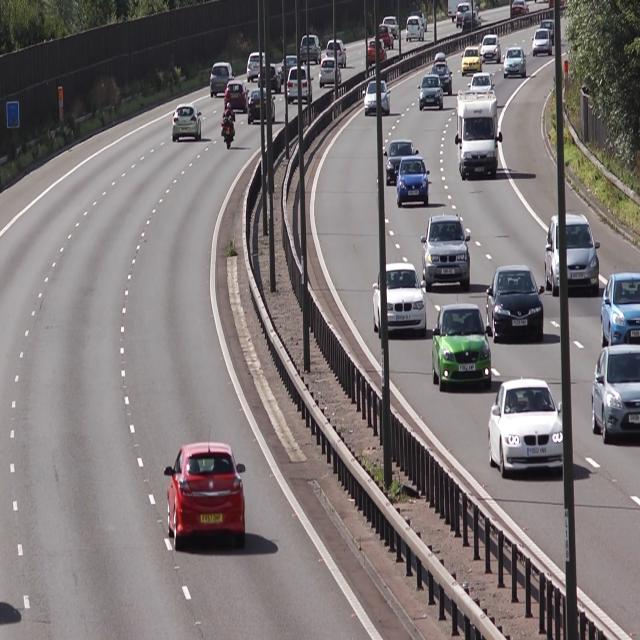Car: (484, 376, 570, 488), (168, 437, 248, 548), (432, 305, 496, 392), (484, 264, 548, 346), (591, 342, 640, 445), (548, 212, 603, 298), (457, 91, 502, 184), (421, 214, 473, 292), (373, 264, 429, 335), (603, 270, 640, 352), (395, 156, 432, 210), (386, 137, 415, 187), (172, 104, 206, 143), (247, 87, 279, 125), (418, 75, 446, 114), (284, 68, 314, 104), (365, 78, 391, 118), (225, 81, 251, 117), (504, 47, 529, 82), (318, 57, 342, 93), (298, 33, 322, 69), (364, 35, 391, 67), (210, 57, 232, 96), (258, 63, 282, 97), (324, 35, 348, 69), (480, 28, 502, 65), (462, 42, 484, 78), (532, 29, 554, 59), (246, 49, 266, 81), (404, 16, 425, 42)
